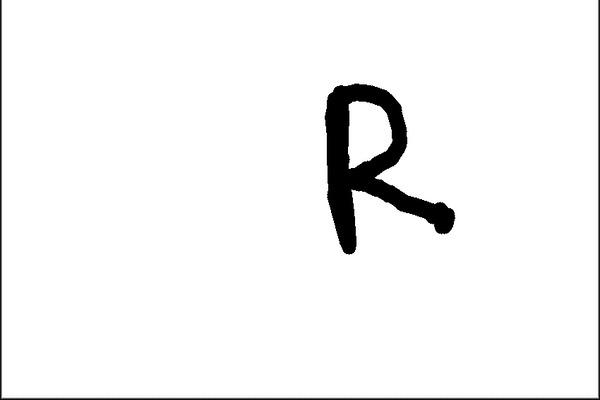R: (306, 77, 467, 257)
